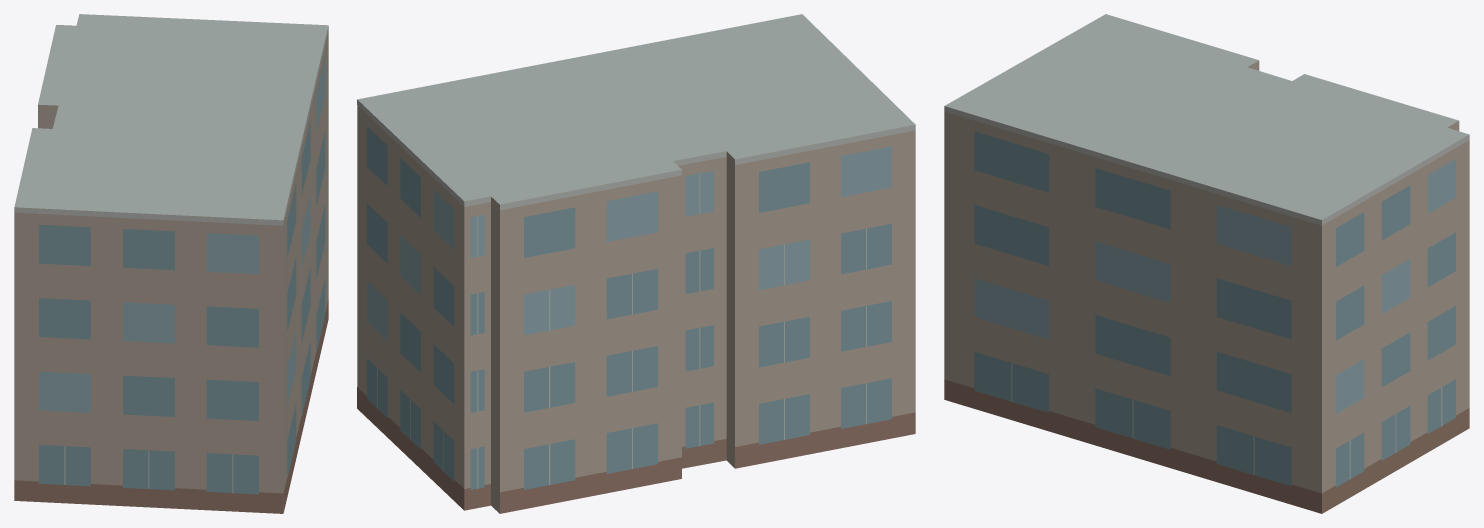
File: survey-upis-32839993.glb
3 views of the same model, side by side, from view 1: azimuth 30°, elevation 25°; view 2: azimuth 150°, elevation 25°; view 3: azimuth 270°, elevation 25° (orthographic). The views are drawn at different scales.
Visible parts, largest first — view 1: survey-upis-32839993.tmp; view 2: survey-upis-32839993.tmp; view 3: survey-upis-32839993.tmp.
Part boxes in pixels (left/top/right/bottom): survey-upis-32839993.tmp: left=14, top=14, right=328, bottom=513; survey-upis-32839993.tmp: left=357, top=14, right=915, bottom=513; survey-upis-32839993.tmp: left=944, top=14, right=1469, bottom=513.
Size of the model in its own units: 19.88 by 13.2 by 21.4.
